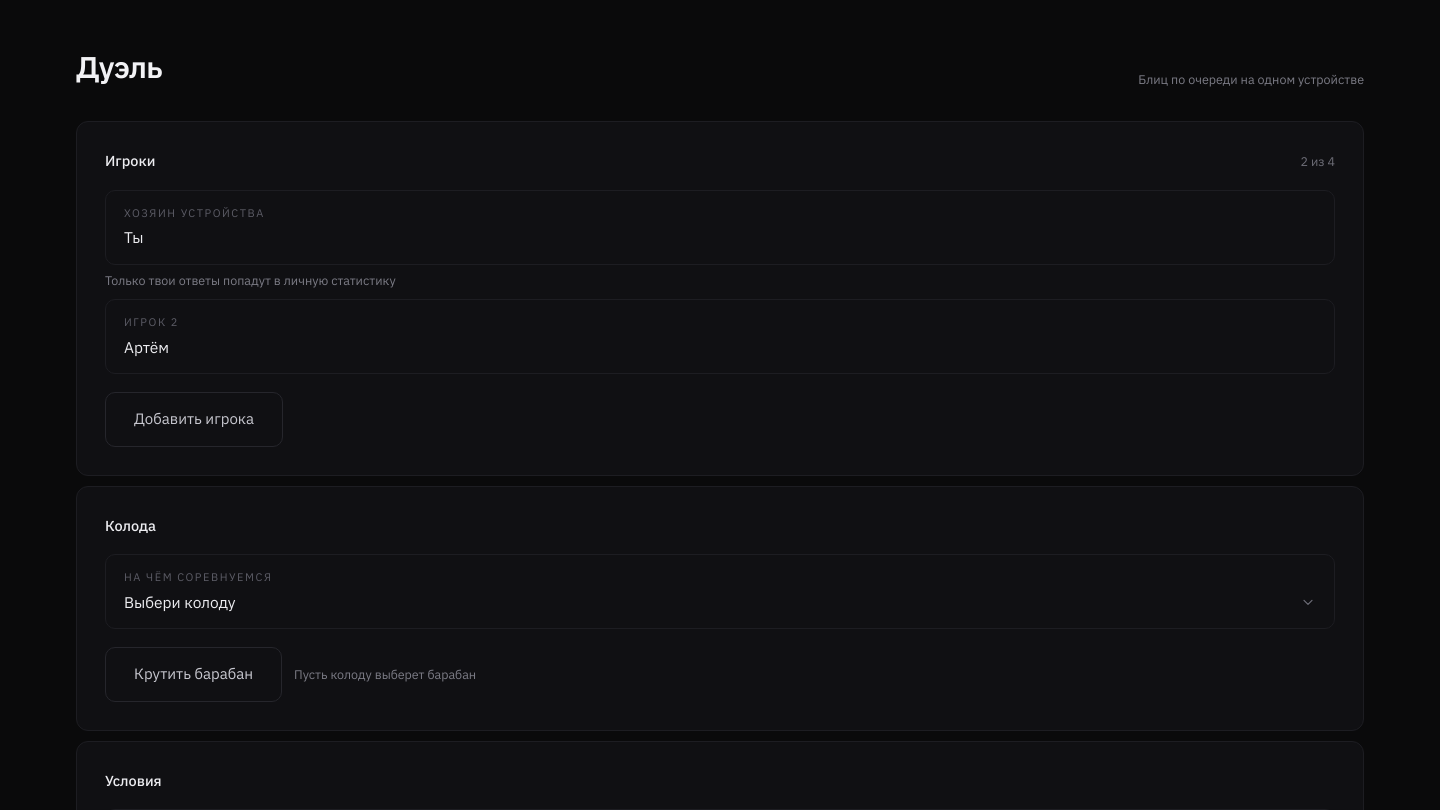
Scenario: дуэль › после старта ждёт, пока первый игрок возьмёт устройство
Select "Линейная алгебра · 126" in the dropdown labelled "На чём соревнуемся" at (720, 602), box x1=124 y1=591 x2=1316 y2=614
(page scrolled)
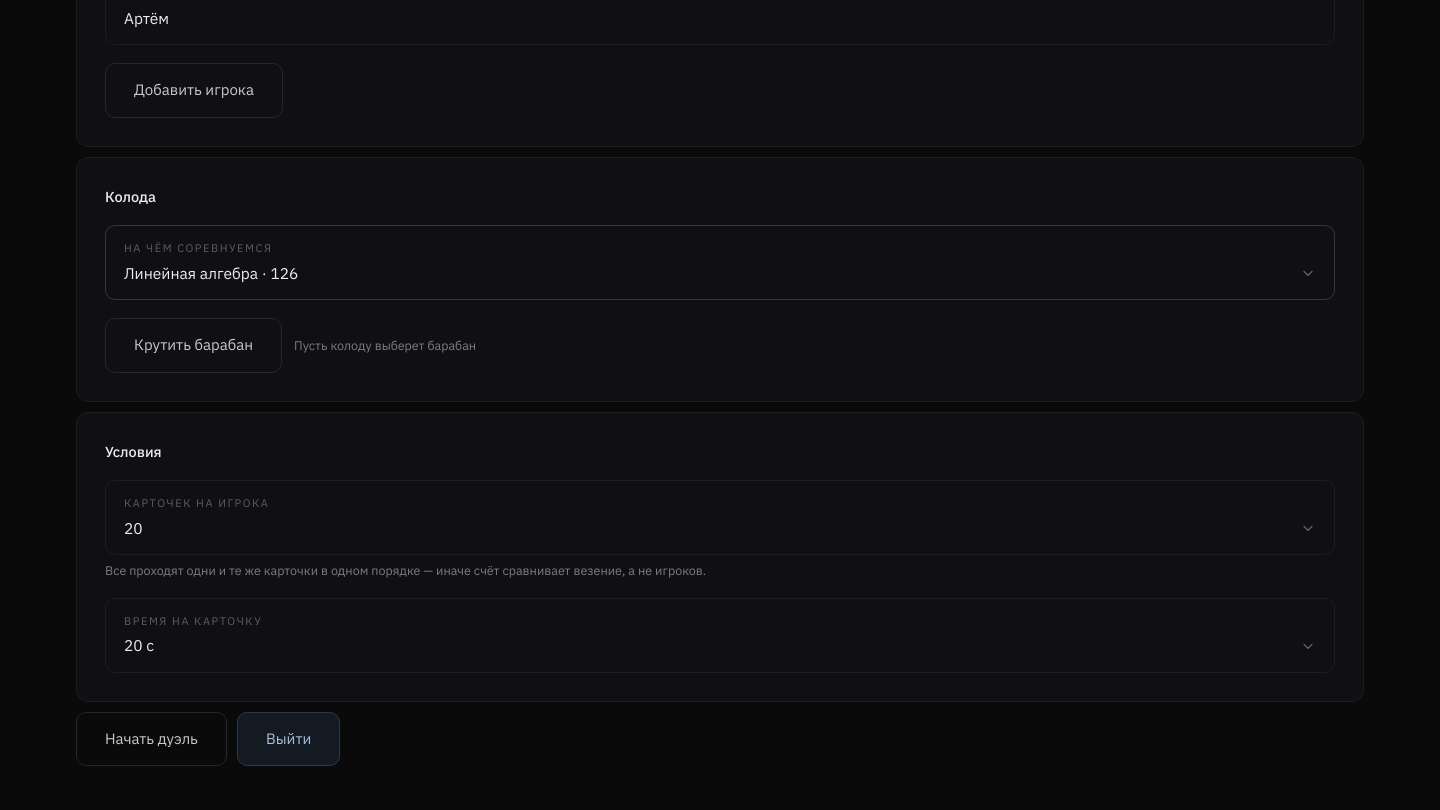
Click the button "Начать дуэль" at (151, 739), box x1=76 y1=712 x2=227 y2=766
(page scrolled)
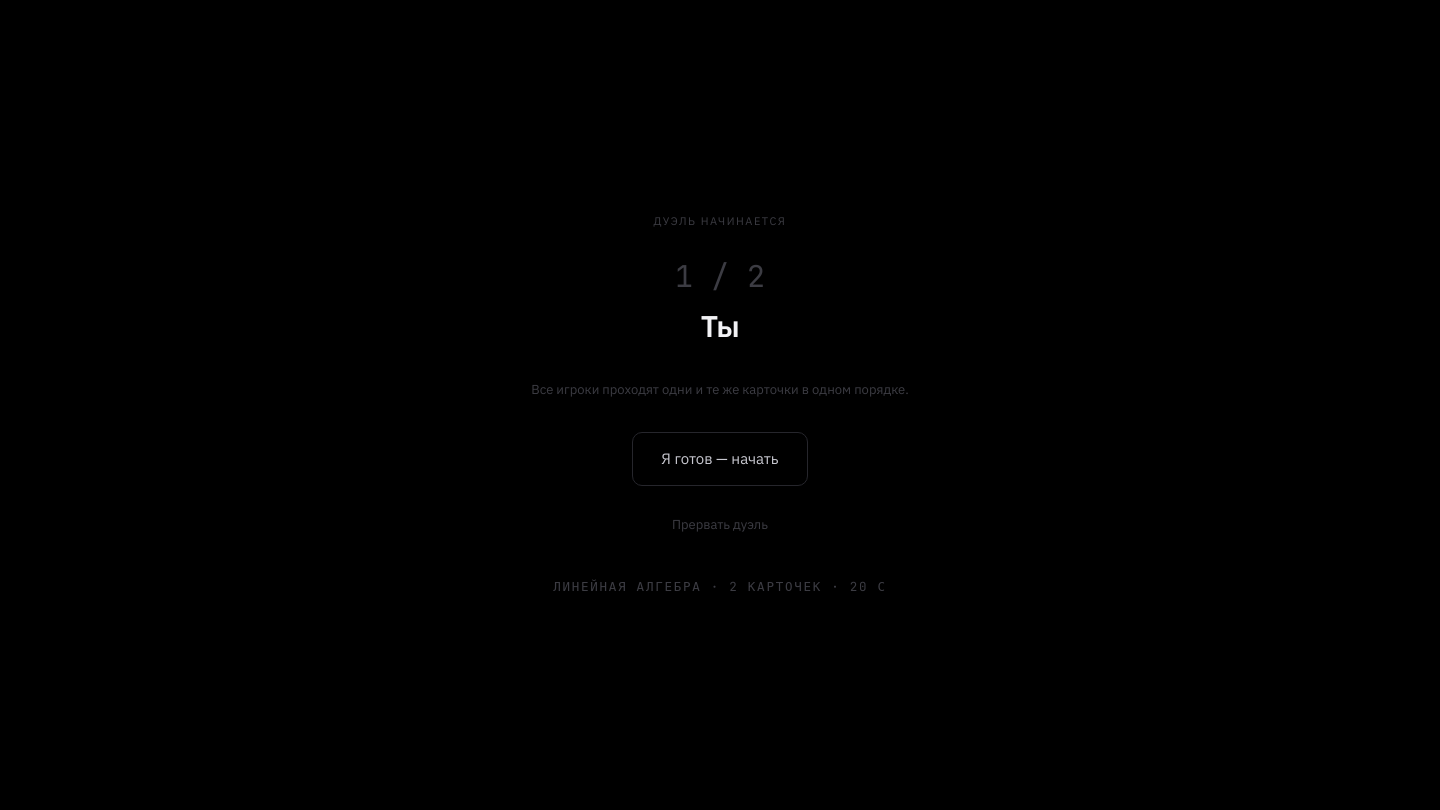
Expected: the text "Ты" is shown, x1=701 y1=303 x2=739 y2=348
Result: the text "Дуэль начинается" is shown at x1=654 y1=213 x2=786 y2=229
Result: the text "1 / 2" is shown at x1=675 y1=261 x2=765 y2=291
